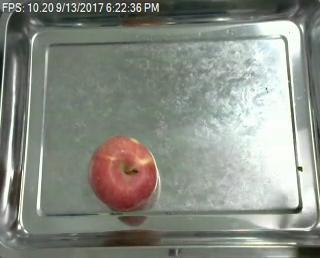apple: (86, 134, 157, 212)
